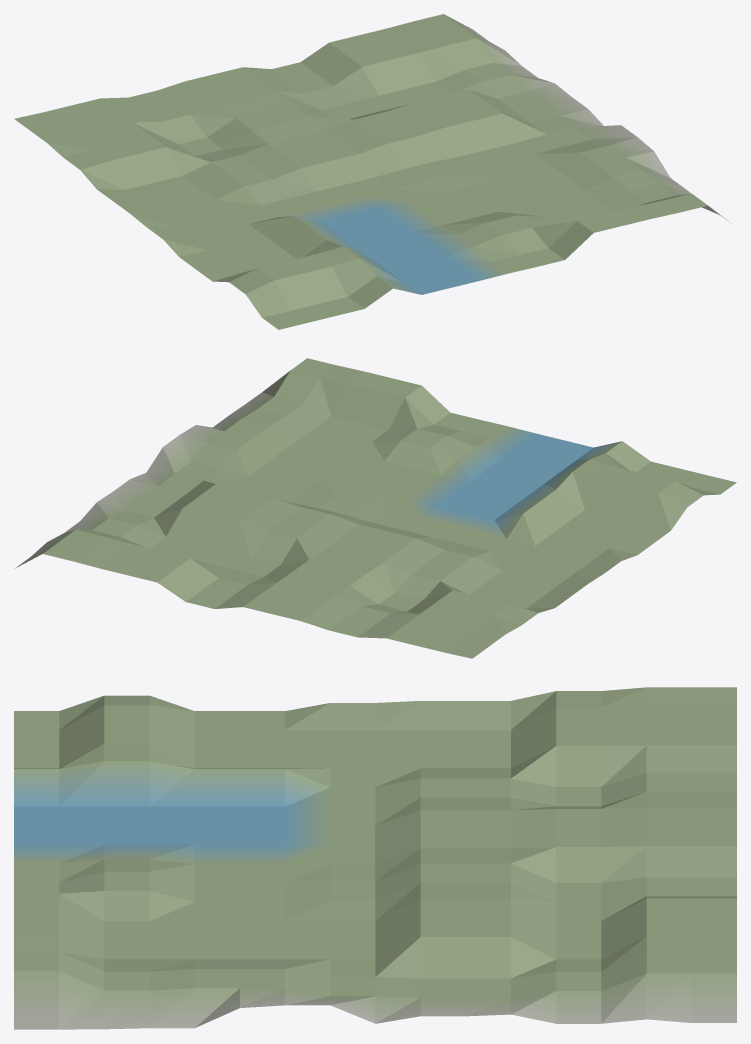
The picture shows the model from 3 angles, top to bottom: view 1: azimuth 30°, elevation 25°; view 2: azimuth 150°, elevation 25°; view 3: azimuth 270°, elevation 25°; orthographic projection. The views are drawn at different scales.
Size of the model in its own units: 32 by 1.97 by 32.
